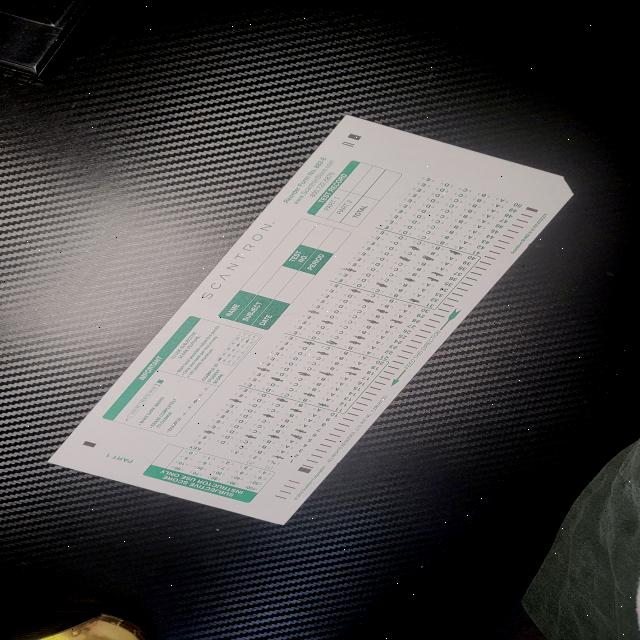scantron: (46, 113, 574, 525)
